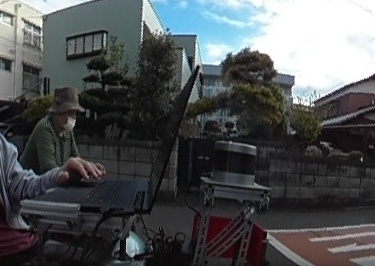person: (21, 85, 89, 178)
